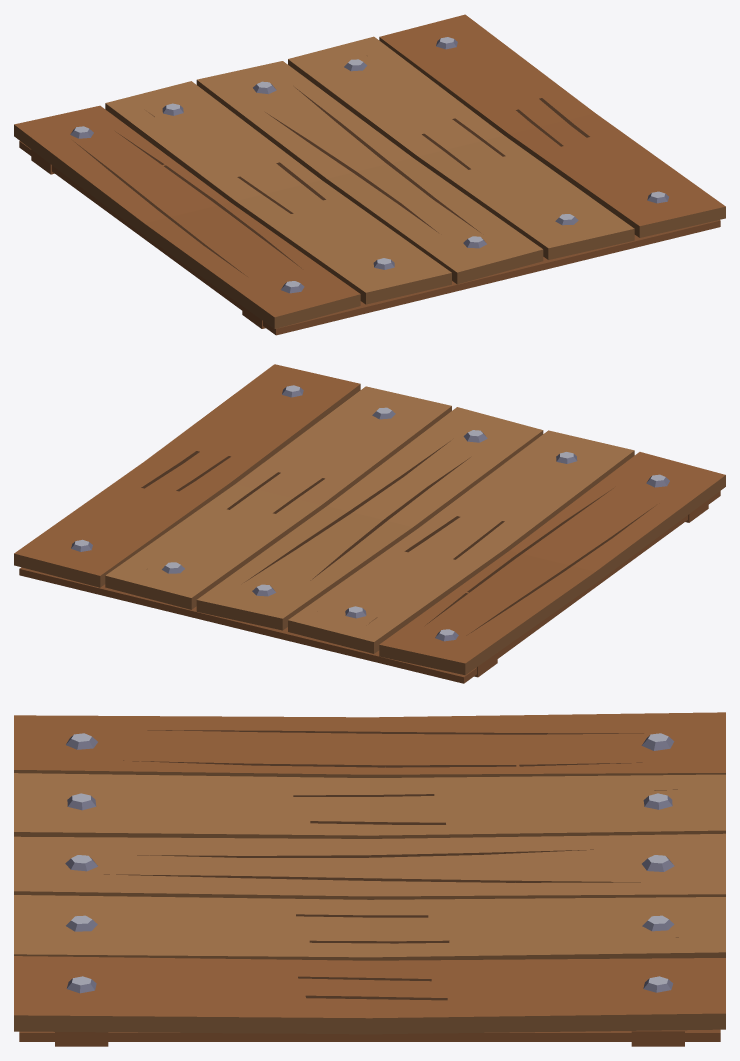
File: floor_plank.glb
The picture shows the model from 3 angles, top to bottom: view 1: azimuth 30°, elevation 25°; view 2: azimuth 150°, elevation 25°; view 3: azimuth 270°, elevation 25°; orthographic projection. The views are drawn at different scales.
Visible parts, largest first — view 1: Body; view 2: Body; view 3: Body.
Boxes of the visible parts, x1,y1,x2,y2 form: Body: (14, 14, 725, 335); Body: (14, 364, 725, 683); Body: (14, 712, 725, 1046).
Bounding box in the file's own units: 4 × 0.2411 × 4.
